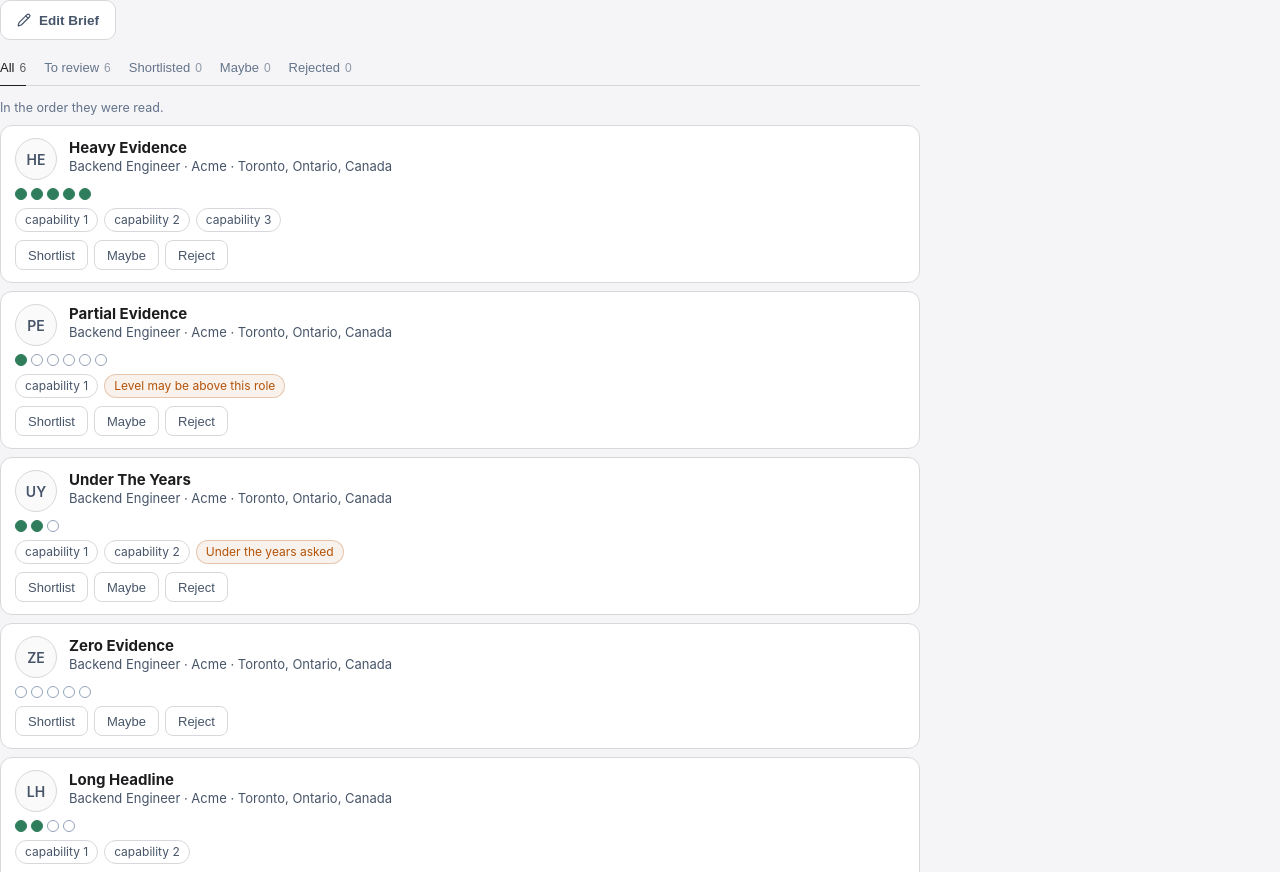
Test: proof and record › open the full record without any "listed N of M" rank claim or provider wording
The width and height of the screenshot is (1280, 872).
Step 1. Click the element with class "ws-card" that starts with "Heavy Evidence" → (460, 204), box [0,125,920,283]
(page scrolled)
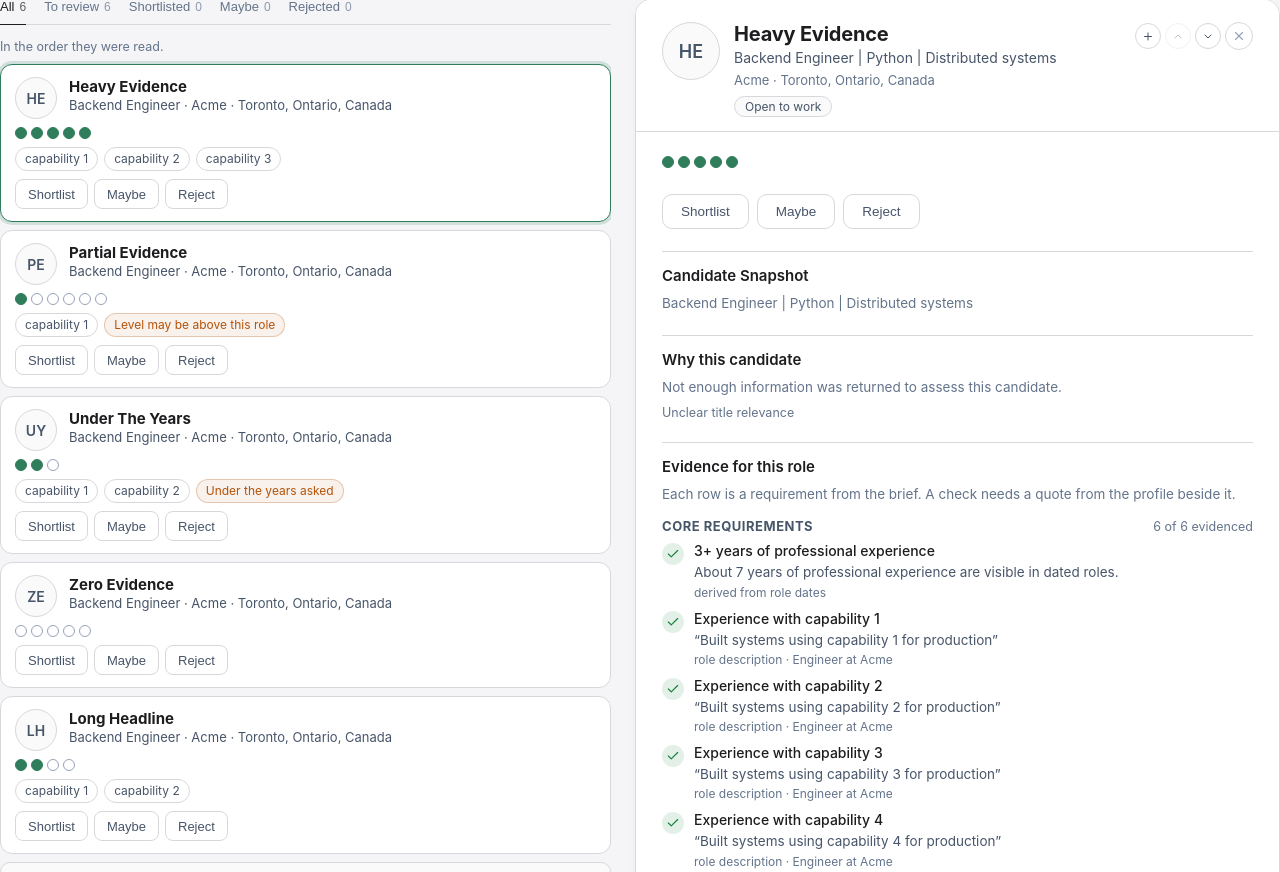
Check: the element with class "record" shows "Heavy Evidence", box [734,22,888,46]
Check: the element with class "record" shows "Evidence for this role", box [662,457,815,476]
